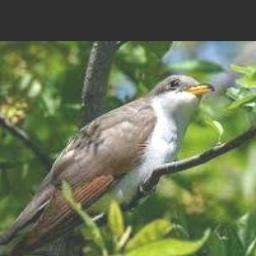Cuckoo: (0, 73, 214, 256)
